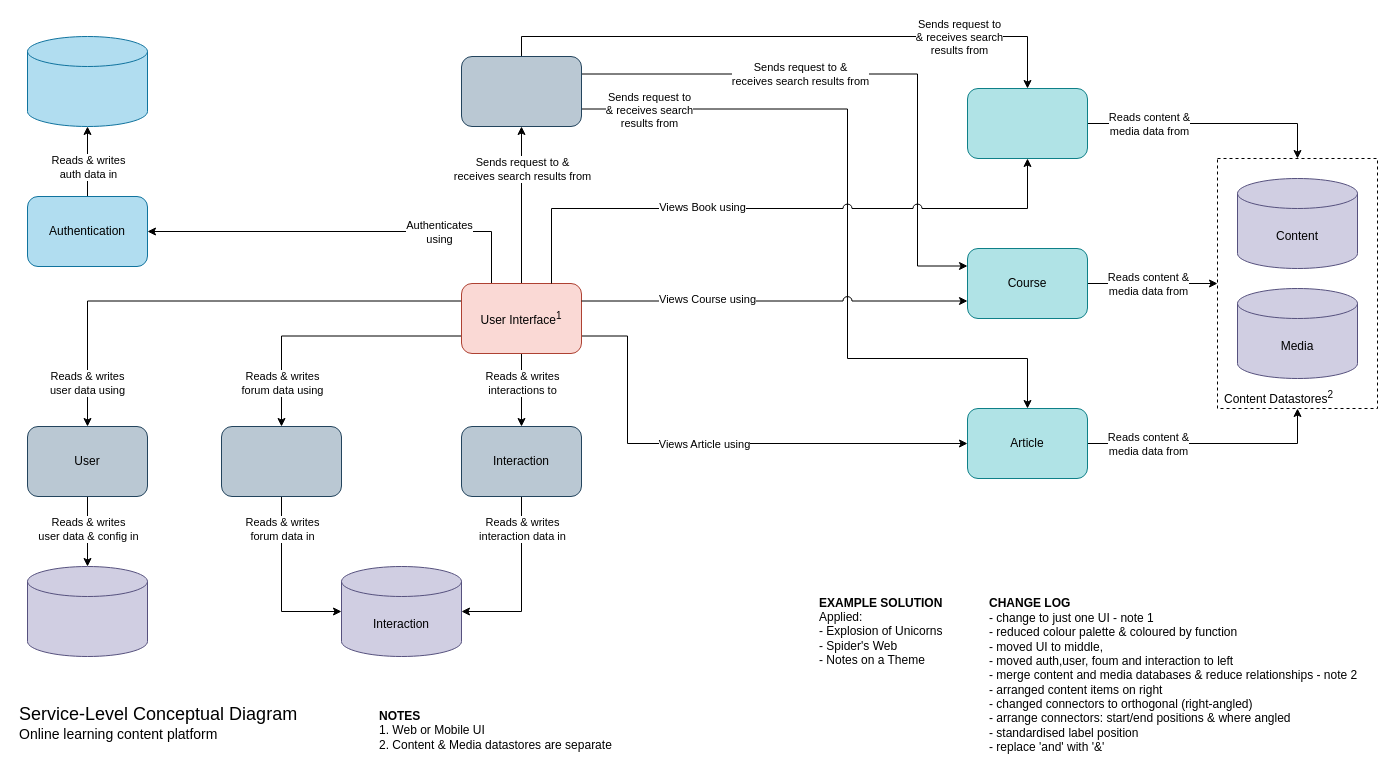
The diagram is 1395 pixels wide and 778 high, and some of its shapes have lost their labels. Here are the shapes that lost their labels. From the top down, the centre of each, then its label:
At (x=87, y=81): "Auth".
At (x=521, y=91): "Search".
At (x=1027, y=123): "Book".
At (x=281, y=461): "Forum".
At (x=87, y=611): "Config".
